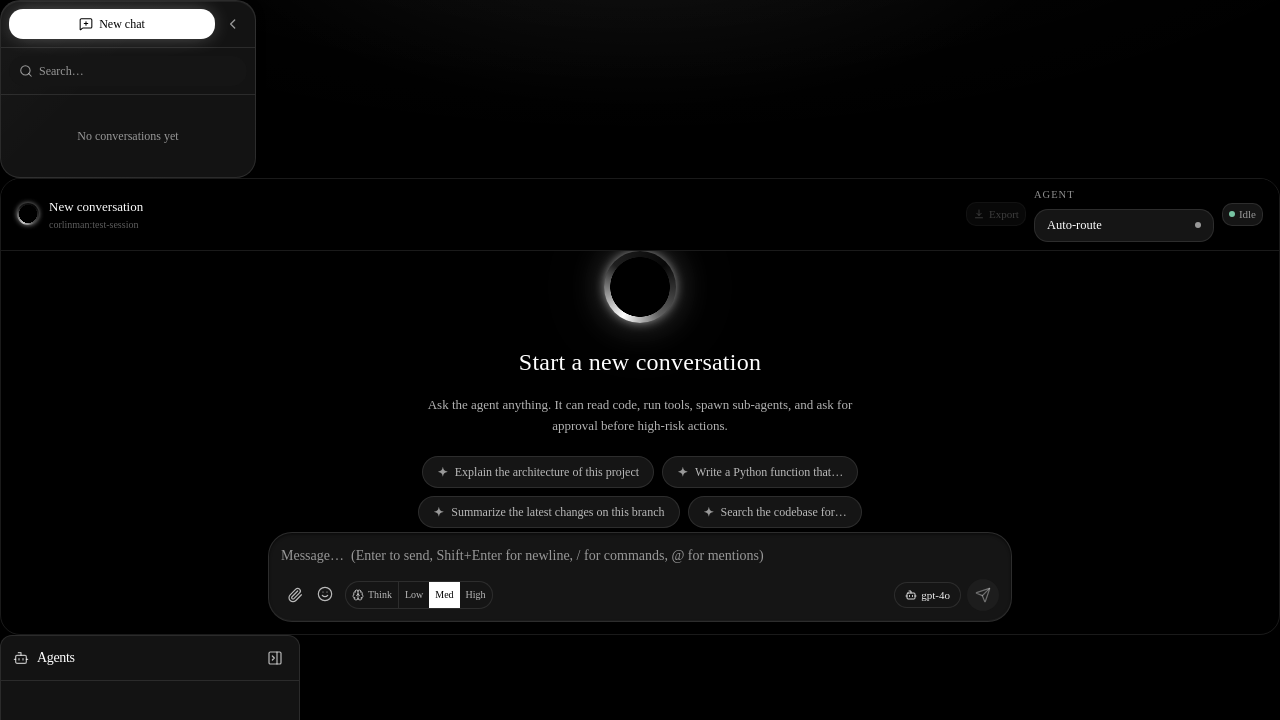
Test: ChatPage model picker wiring › opens the model picker via the /model slash command
Replace the text in the text box with test id "composer-textarea" with "/model" at (640, 556), box [281, 545, 999, 568]
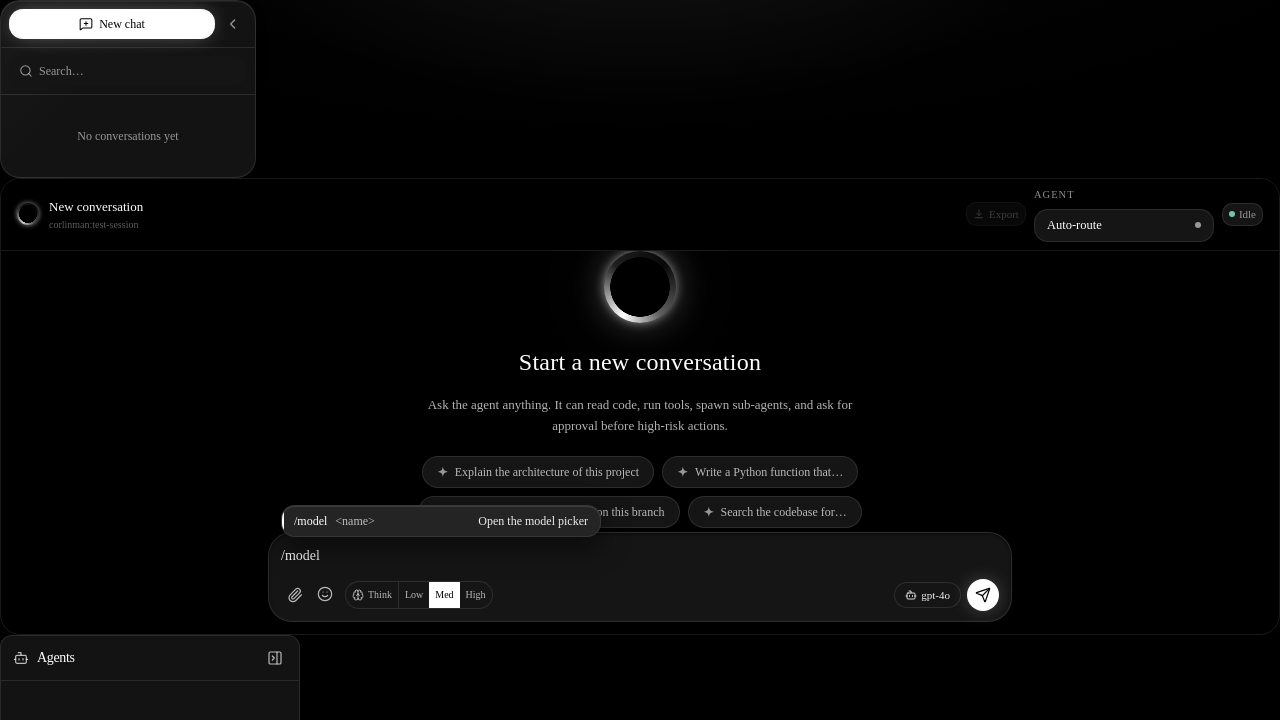
Press Enter in the text box with test id "composer-textarea", box [281, 545, 999, 568]
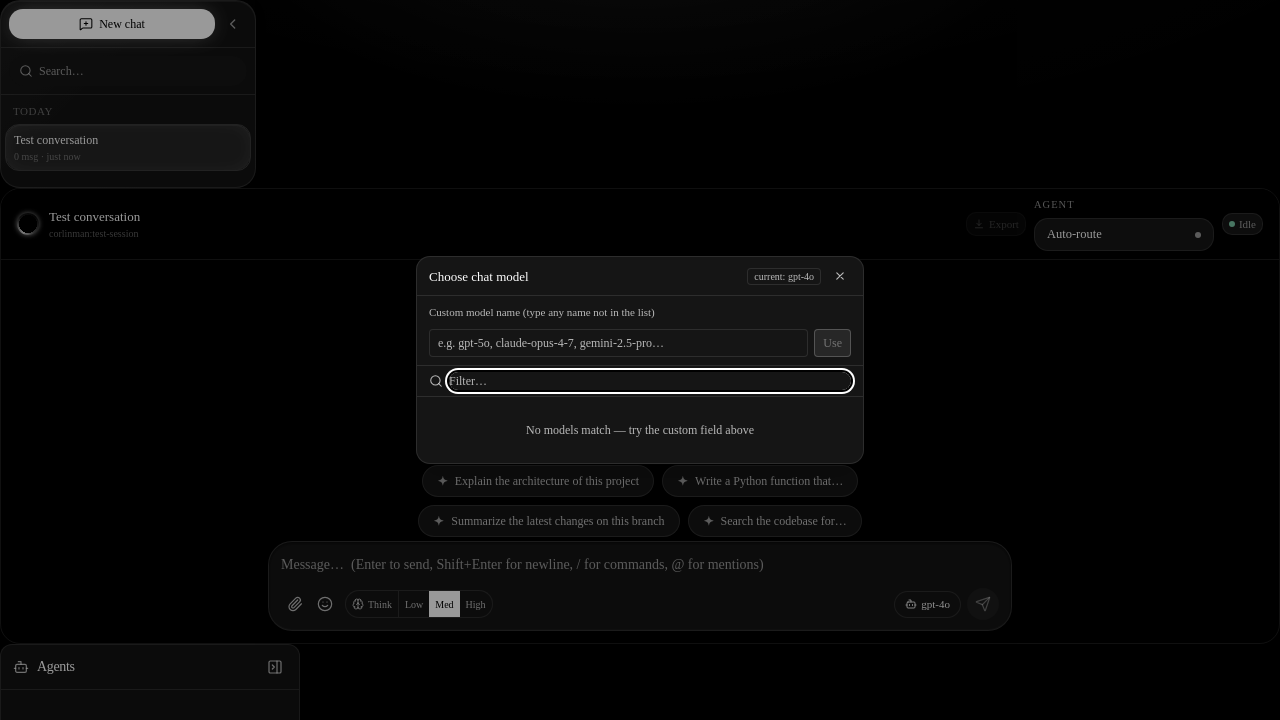
Result: the dialog with test id "chat-model-picker" is shown
